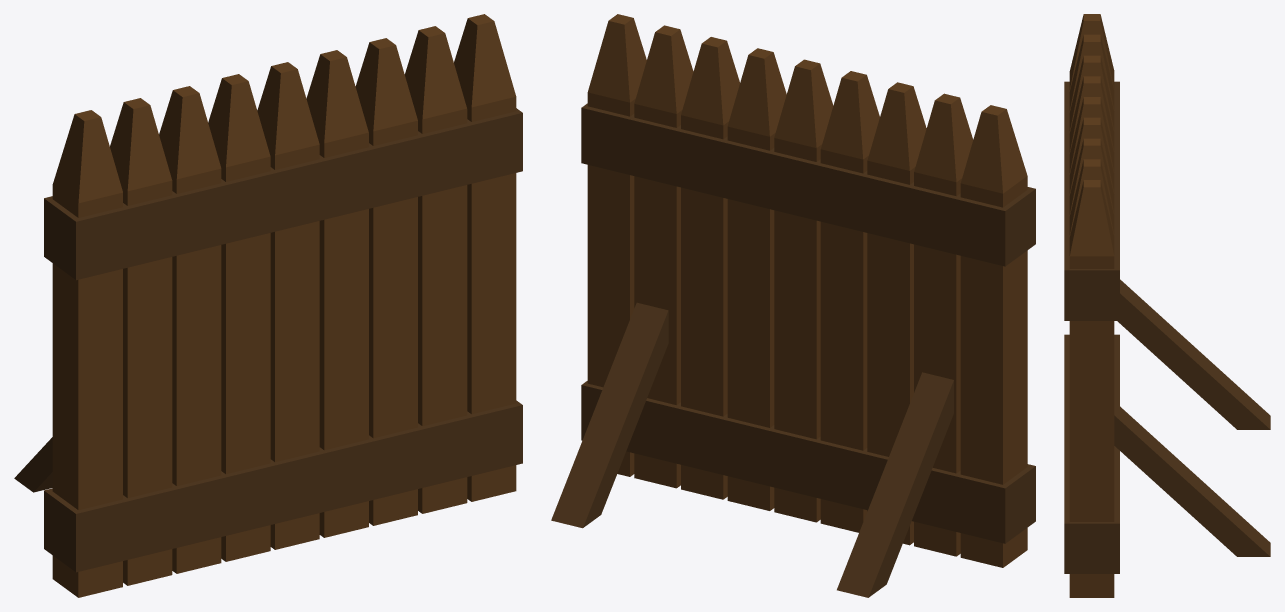
File: Wooden_Highwall.fbx
3 views of the same model, side by side, from view 1: azimuth 30°, elevation 25°; view 2: azimuth 150°, elevation 25°; view 3: azimuth 270°, elevation 25° (orthographic). The views are drawn at different scales.
Visible parts, largest first — view 1: HighWall; view 2: HighWall; view 3: HighWall.
Boxes of the visible parts, left/top/right/bottom form: HighWall: left=14, top=14, right=522, bottom=597; HighWall: left=551, top=14, right=1035, bottom=597; HighWall: left=1064, top=14, right=1270, bottom=597.
Size of what is drawn, in the model's own units: 800 by 800 by 370.
